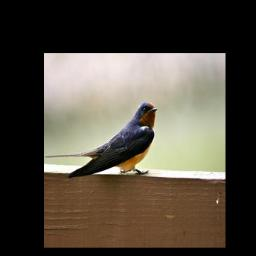Swallow: (45, 100, 158, 179)
